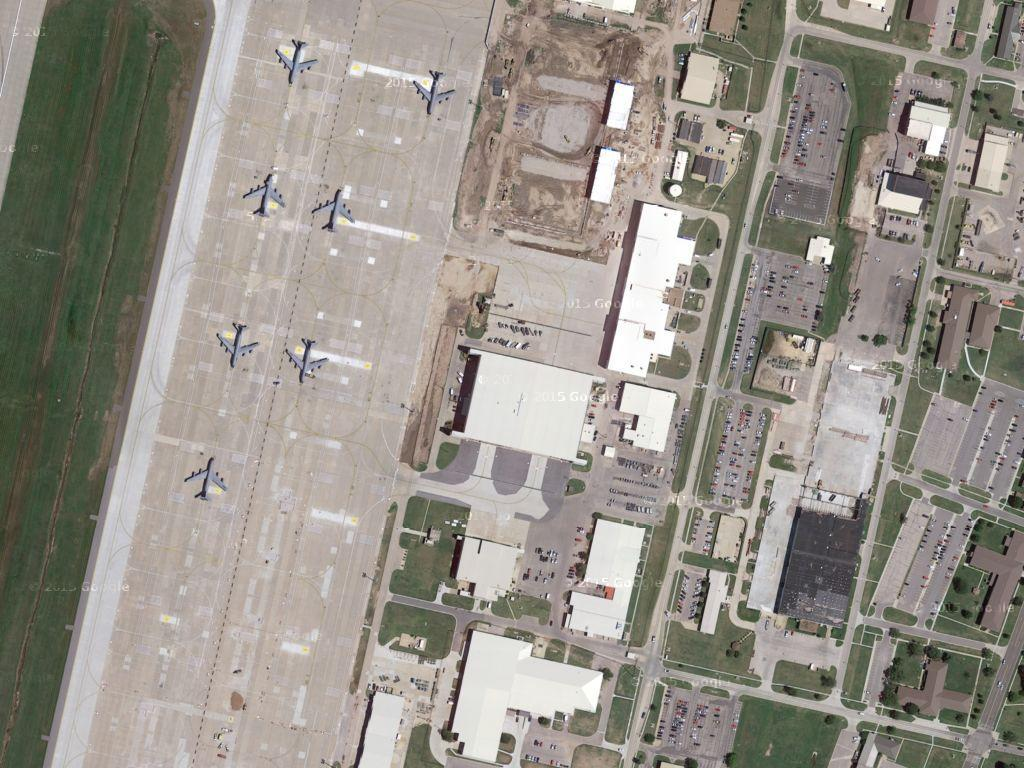KC-135: (269, 36, 323, 88), (410, 63, 458, 120), (309, 184, 360, 237), (210, 322, 263, 373), (283, 335, 331, 387), (184, 453, 230, 506), (241, 171, 289, 219)
